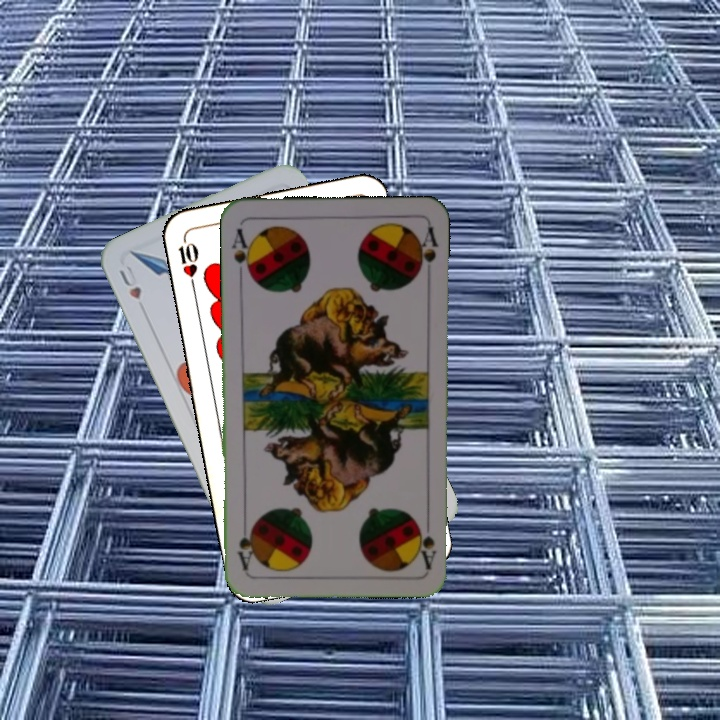H10: (174, 233, 201, 292)
HU: (115, 261, 144, 302)
SA: (228, 224, 255, 281), (414, 512, 439, 571)
